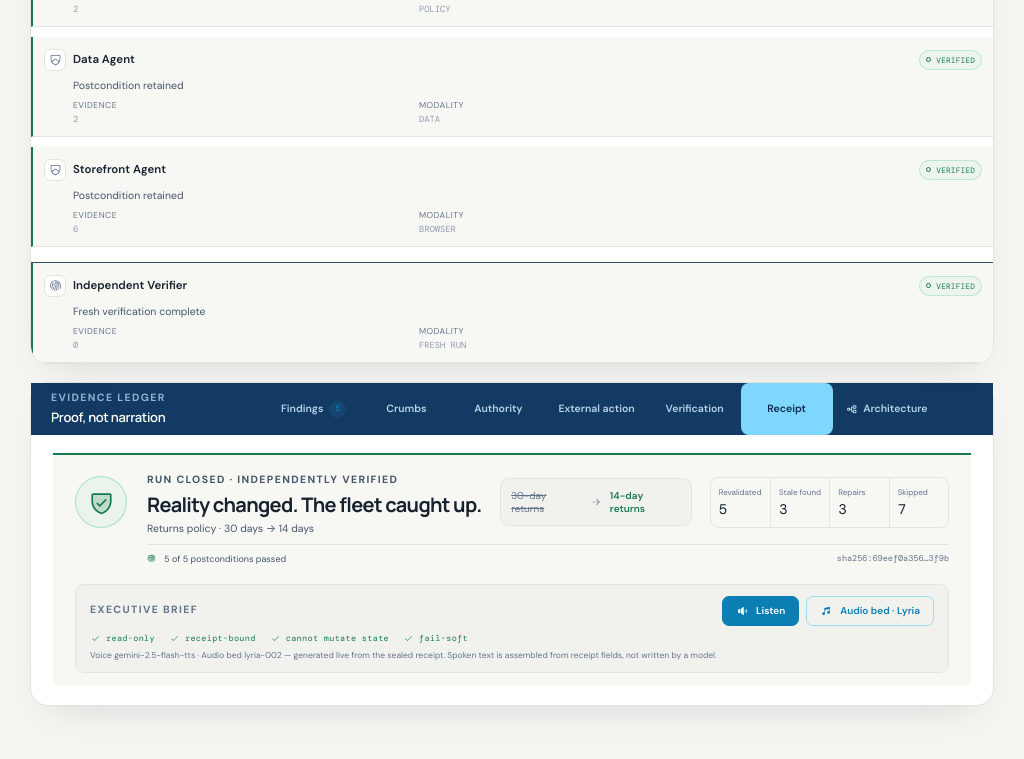
Test: ControlPlane critical projections › reports architecture facts from the origin and never invents them
(page scrolled)
Click the tab "Architecture" at (887, 409), box [833,383,942,435]
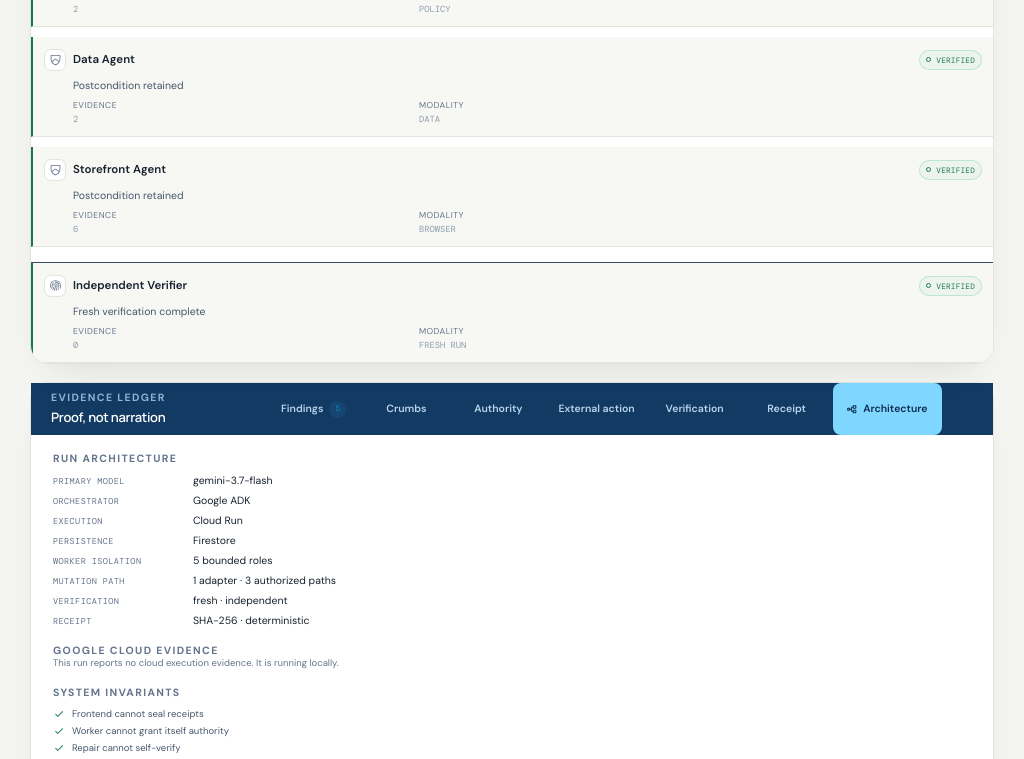
Check: the text "gemini-3.7-flash" is shown, box [193,474,273,487]
Check: the text "Google ADK" is shown, box [193,494,250,507]
Check: the text "1 adapter · 3 authorized paths" is shown, box [193,574,336,587]
